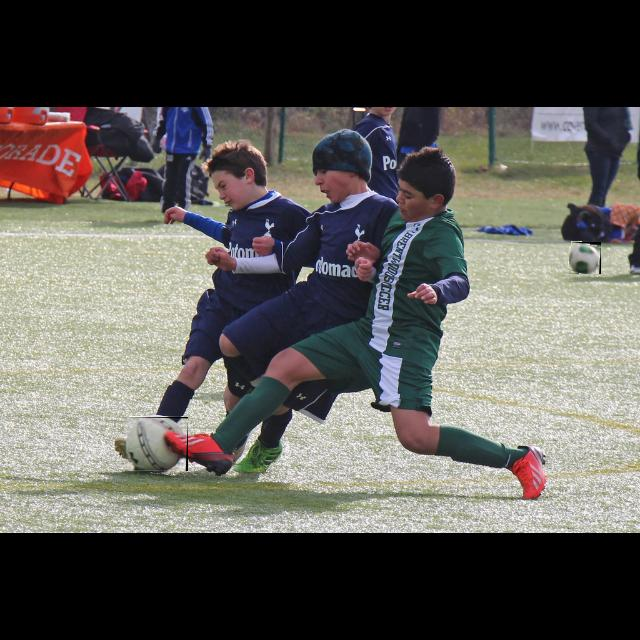Football: (124, 417, 188, 471), (569, 242, 601, 274)
